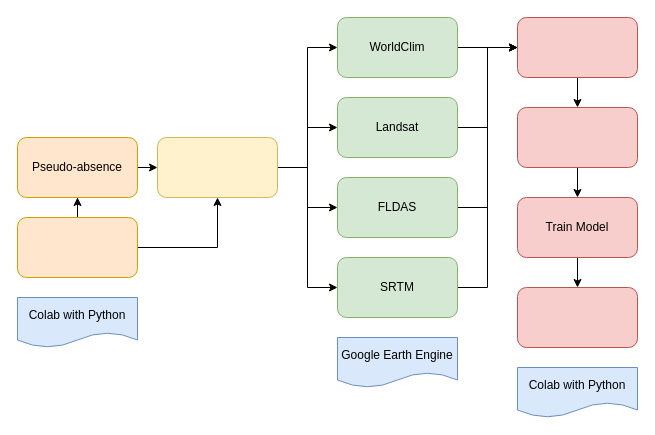
Image size: 655x435. Some labels were removed from this diagram. Each missing label, with the box of its shape:
Accuracy Assessment: (516, 286, 638, 348)
Full Data Points: (156, 136, 278, 198)
Locust Hub: (16, 216, 138, 278)
Outliner Removal: (516, 106, 638, 168)
Time Extraction: (516, 16, 638, 78)
